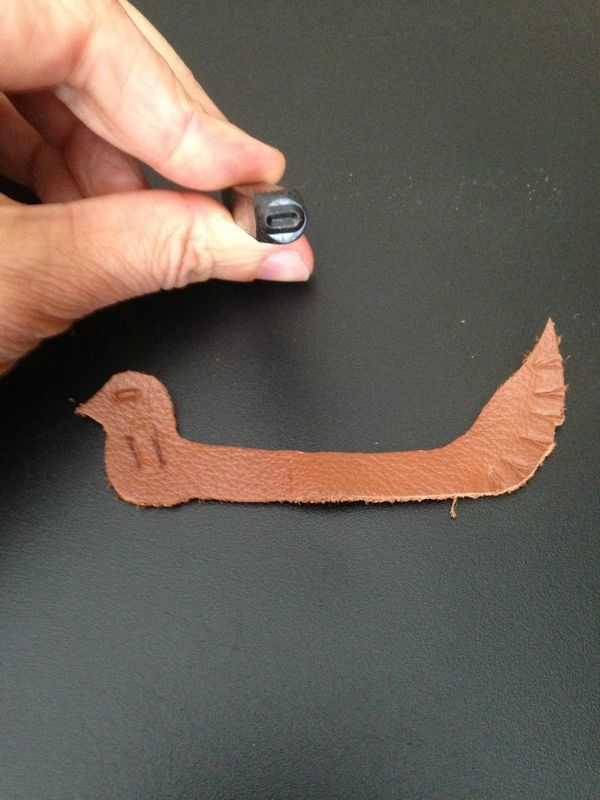cuero: (72, 319, 568, 505)
